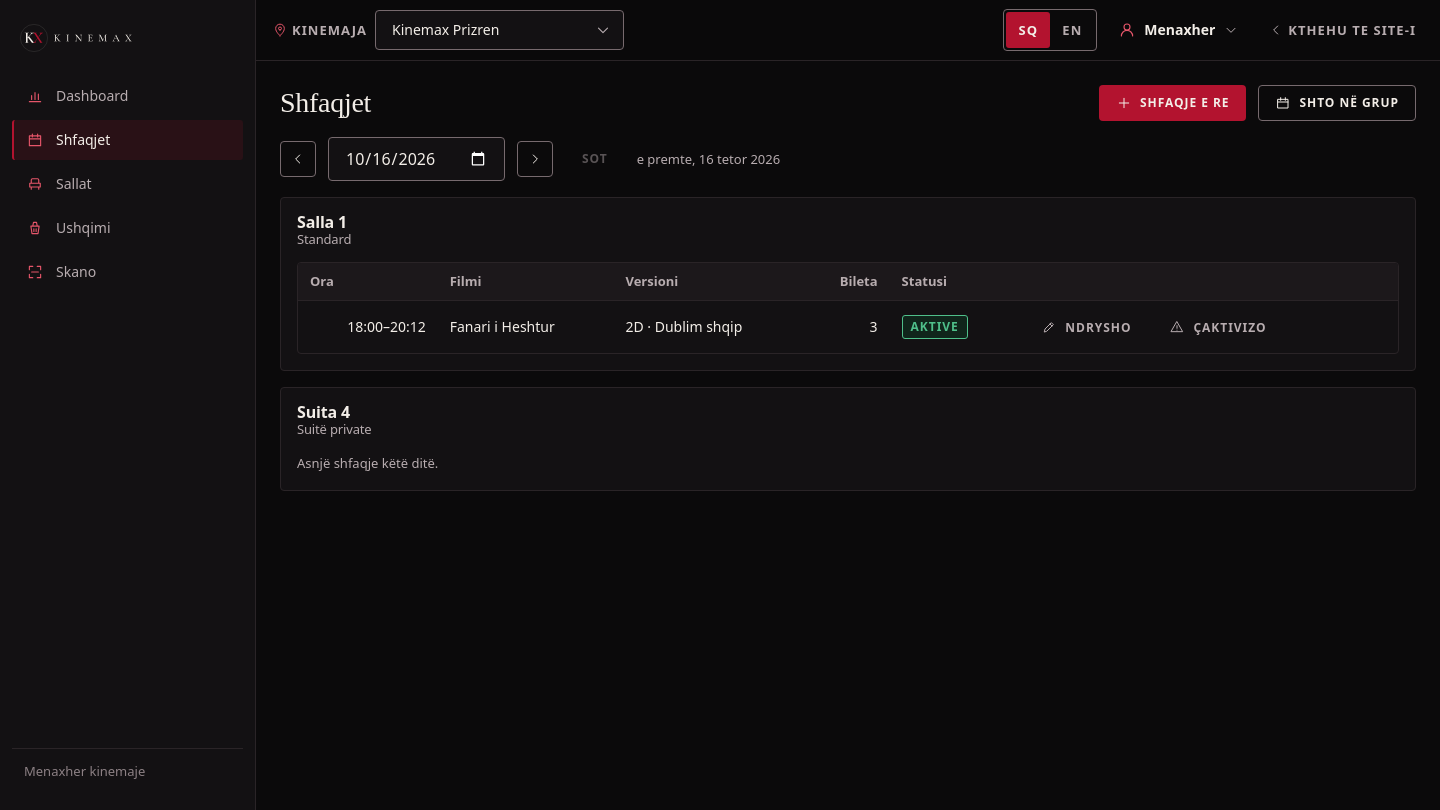
Test: the showtimes page › locks every field once tickets are sold and points to deactivate + new
What coordinates should you click on to do the following:
click the button with aria-label "Ndrysho shfaqjen Fanari i Heshtur"
I would click on:
 (1086, 327)
Its box is [1024,309,1148,345].
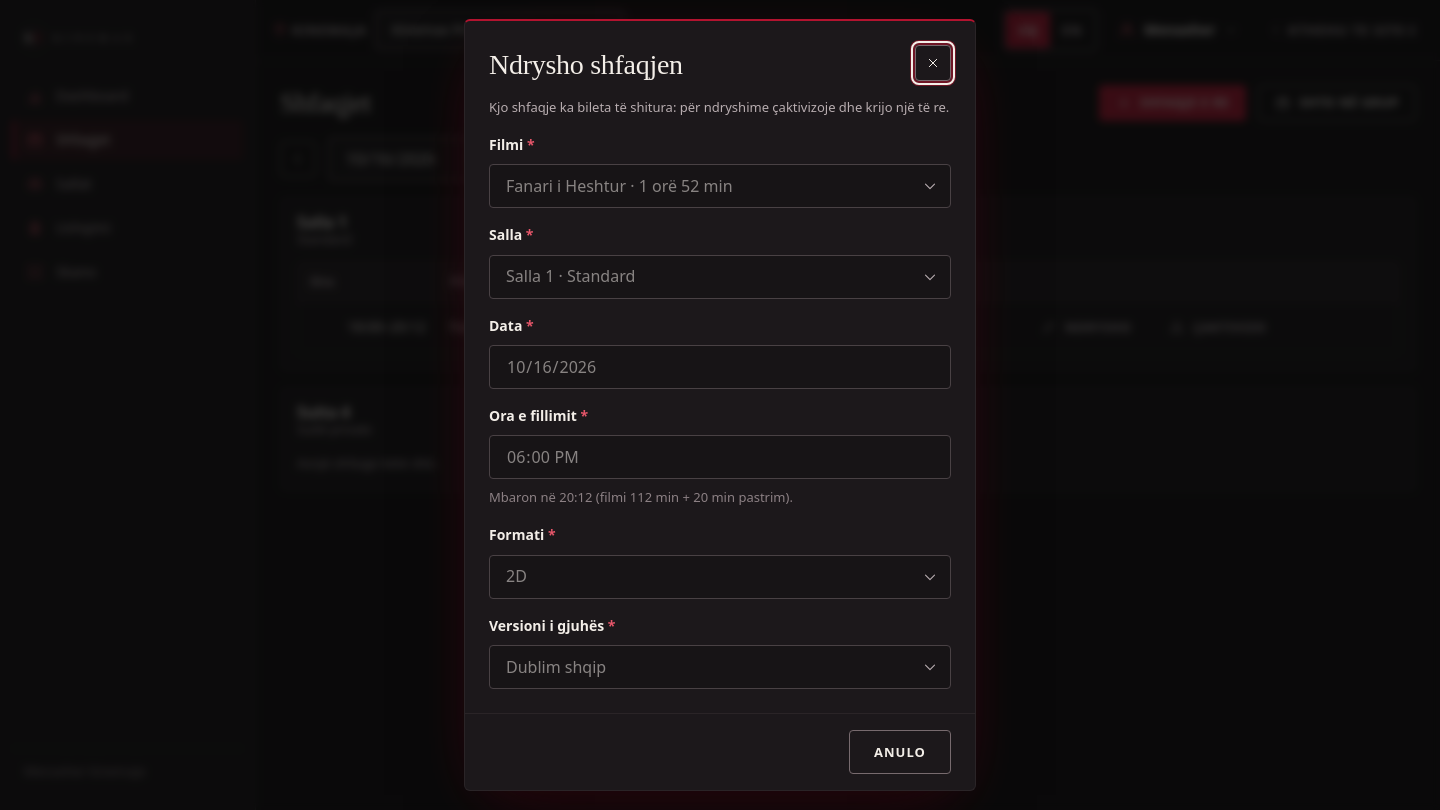
expect the text "Kjo shfaqje ka bileta të shitura: për ndryshime çaktivizoje dhe krijo një të re." is shown: met, box [489,97,951,118]
expect the dropdown labelled "Filmi *" is disabled: met, box [489,164,951,208]
expect the dropdown labelled "Salla *" is disabled: met, box [489,255,951,299]
